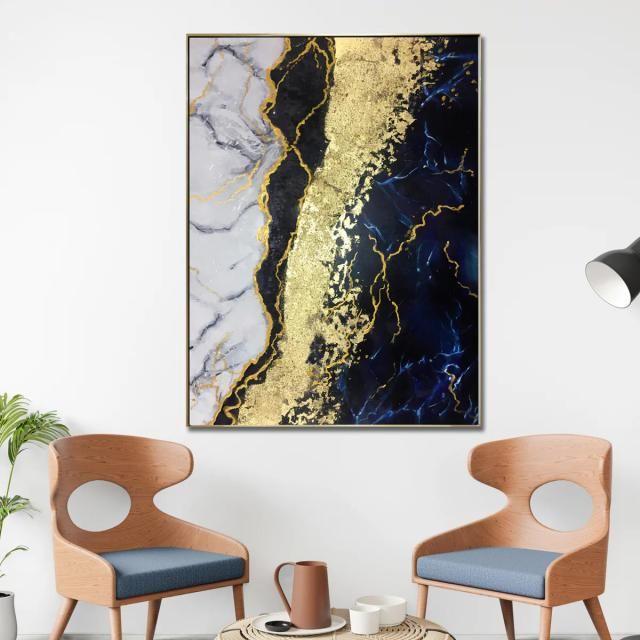painting: (187, 31, 484, 428)
